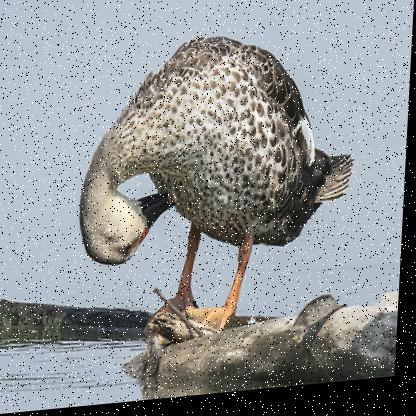Burung: (75, 28, 361, 344)
